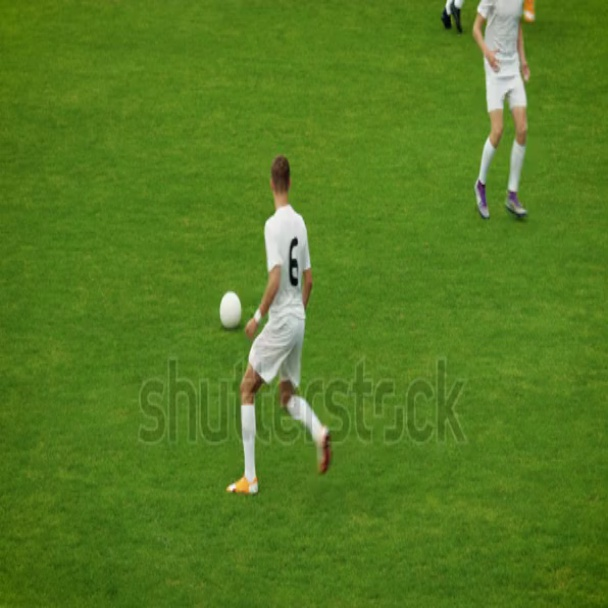ball: (223, 290, 241, 320)
